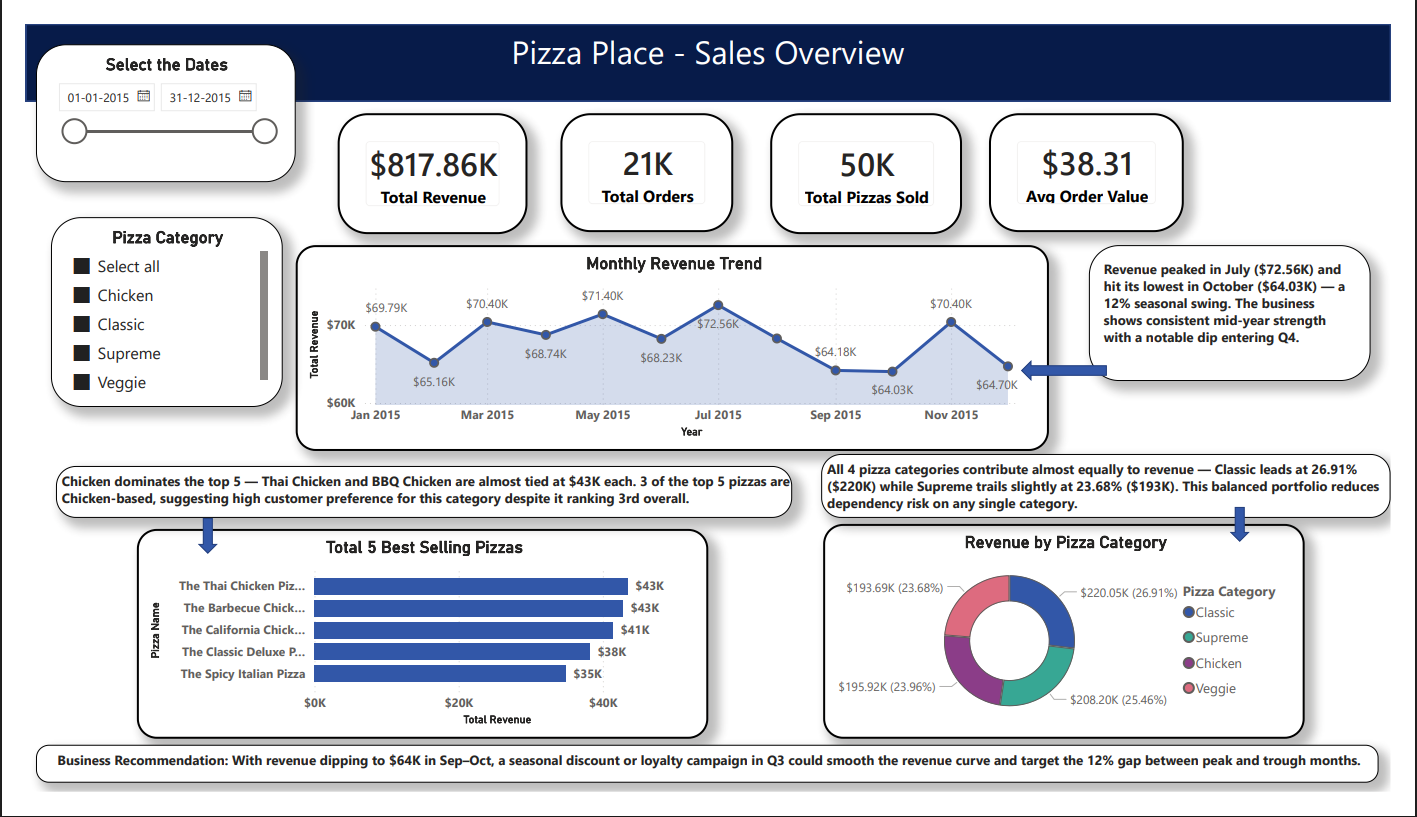

The page's visual inventory and layout, read from the dashboard file:
{"tool":"powerbi","page":{"name":"Sales Overview","canvas":[1366,768],"ordinal":0},"visuals":[{"type":"group","id":"g1","title":"Group 1","box":[0,0,1366,77],"z":0},{"type":"shape","box":[0,0,1366,77],"z":0,"group":"g1"},{"type":"textbox","box":[0,0,1366,56.4],"z":1000,"group":"g1"},{"type":"cardVisual","fields":{"Data":["MeasuresTable.Total Revenue"]},"box":[311.7,88.7,190.4,121.3],"z":1000},{"type":"cardVisual","fields":{"Data":["MeasuresTable.Total Orders"]},"box":[535,88.9,172.6,119.5],"z":2000},{"type":"cardVisual","fields":{"Data":["MeasuresTable.Total Pizzas Sold"]},"box":[744.8,88.7,191.7,121.3],"z":3000},{"type":"cardVisual","fields":{"Data":["MeasuresTable.Avg Order Value"]},"box":[963.8,88.9,195.1,119.5],"z":4000},{"type":"lineChart","title":"Monthly Revenue Trend","fields":{"Y":["MeasuresTable.Total Revenue"],"Category":["Date Table.Date.Variation.Date Hierarchy.Year","Date Table.Date.Variation.Date Hierarchy.Month"]},"box":[270.3,221,753.6,206.4],"z":5000},{"type":"donutChart","title":"Revenue by Pizza Category","fields":{"Y":["MeasuresTable.Total Revenue"],"Category":["pizza_db pizza_types.category"]},"box":[798.3,499.6,481.3,215.2],"z":6000},{"type":"clusteredBarChart","title":"Total 5 Best Selling Pizzas","fields":{"Category":["pizza_db pizza_types.name"],"Y":["MeasuresTable.Total Revenue"]},"box":[110.9,504.8,572.6,210],"z":7000},{"type":"slicer","title":"Select the Dates","fields":{"Values":["Date Table.Date"]},"box":[10.4,19.6,259.6,138.3],"z":8000},{"type":"slicer","title":"Pizza Category","fields":{"Values":["pizza_db pizza_types.category"]},"box":[24.8,193,232.2,190.4],"z":9000},{"type":"textbox","box":[1063.8,221,282.3,135.8],"z":10000},{"type":"shape","box":[995.9,335.5,86.5,21.3],"z":11000},{"type":"textbox","box":[30,442.2,737,52.2],"z":12000},{"type":"shape","box":[172.2,494.4,19.6,35.2],"z":13000},{"type":"textbox","box":[795.7,430.4,570,63.9],"z":14000},{"type":"shape","box":[1205.2,482.6,19.6,35.2],"z":15000},{"type":"textbox","box":[10.4,721.3,1343.5,37.8],"z":16000}]}

Visuals, with their boxes in screenshot pixels (x1, y1, x2, y2), scaled from the page's 1366x768 canvas onto the 1417x817 screenshot:
"Group 1" group: {"left": 0, "top": 0, "right": 1416, "bottom": 82}
shape: {"left": 0, "top": 0, "right": 1416, "bottom": 82}
textbox: {"left": 0, "top": 0, "right": 1416, "bottom": 60}
cardVisual - MeasuresTable.Total Revenue: {"left": 323, "top": 94, "right": 521, "bottom": 223}
cardVisual - MeasuresTable.Total Orders: {"left": 555, "top": 95, "right": 734, "bottom": 222}
cardVisual - MeasuresTable.Total Pizzas Sold: {"left": 773, "top": 94, "right": 971, "bottom": 223}
cardVisual - MeasuresTable.Avg Order Value: {"left": 1000, "top": 95, "right": 1202, "bottom": 222}
"Monthly Revenue Trend" lineChart: {"left": 280, "top": 235, "right": 1062, "bottom": 455}
"Revenue by Pizza Category" donutChart: {"left": 828, "top": 531, "right": 1327, "bottom": 760}
"Total 5 Best Selling Pizzas" clusteredBarChart: {"left": 115, "top": 537, "right": 709, "bottom": 760}
"Select the Dates" slicer: {"left": 11, "top": 21, "right": 280, "bottom": 168}
"Pizza Category" slicer: {"left": 26, "top": 205, "right": 267, "bottom": 408}
textbox: {"left": 1104, "top": 235, "right": 1396, "bottom": 380}
shape: {"left": 1033, "top": 357, "right": 1123, "bottom": 380}
textbox: {"left": 31, "top": 470, "right": 796, "bottom": 526}
shape: {"left": 179, "top": 526, "right": 199, "bottom": 563}
textbox: {"left": 825, "top": 458, "right": 1416, "bottom": 526}
shape: {"left": 1250, "top": 513, "right": 1271, "bottom": 551}
textbox: {"left": 11, "top": 767, "right": 1404, "bottom": 808}
